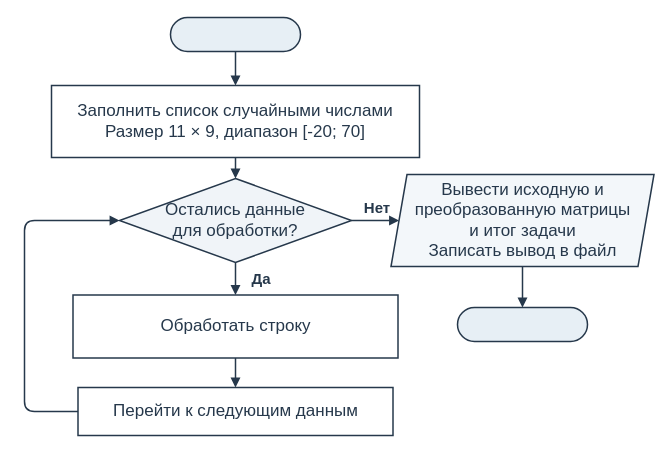
This 672x454 diagram has some shape labels left out. Each missing label, with the box of its shape:
Конец: (456, 306, 588, 342)
Начало: (169, 16, 301, 52)
